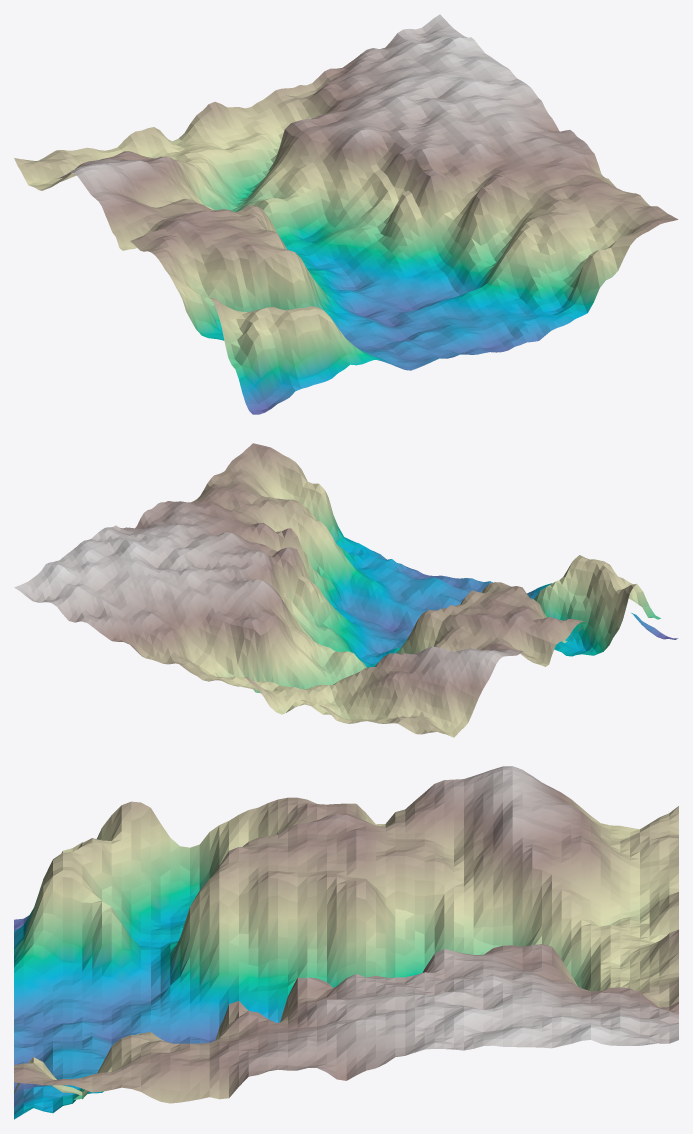
Rendered from 001306_terrain_only.glb.
3 renders of one model, top to bottom at view 1: azimuth 30°, elevation 25°; view 2: azimuth 150°, elevation 25°; view 3: azimuth 270°, elevation 25°, orthographic. The views are drawn at different scales.
Parts seen in each view (by area): view 1: terrain; view 2: terrain; view 3: terrain.
Part boxes in pixels (box(x1,y1,x2,y2)): terrain: box(14, 14, 678, 414); terrain: box(14, 443, 677, 737); terrain: box(14, 766, 678, 1119).
Bounding box in the file's own units: 0.0189 × 0.00533 × 0.0183.
